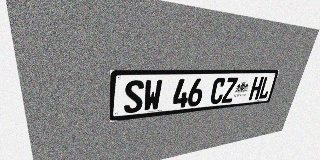4: (172, 79, 191, 109)
6: (187, 78, 205, 107)
C: (209, 78, 227, 105)
H: (248, 77, 264, 100)
L: (258, 76, 273, 99)
S: (124, 80, 144, 114)
W: (143, 79, 163, 112)
Z: (221, 77, 238, 103)
